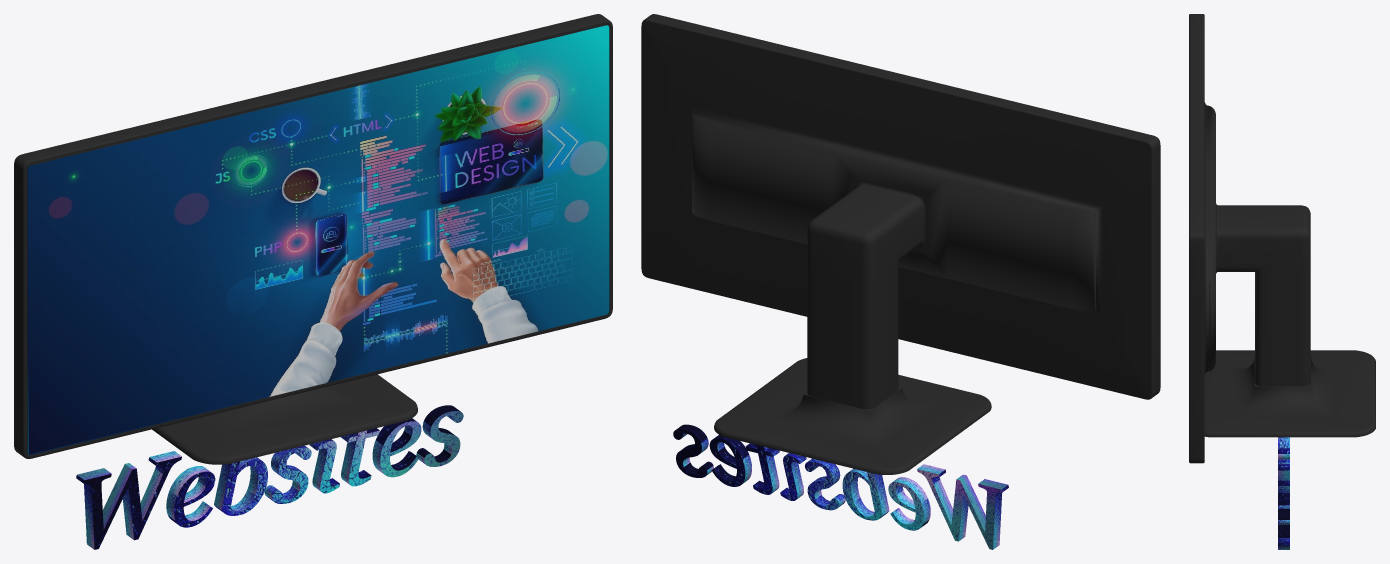
Rendered from Monitor.glb.
3 renders of one model, left to right at view 1: azimuth 30°, elevation 25°; view 2: azimuth 150°, elevation 25°; view 3: azimuth 270°, elevation 25°, orthographic. The views are drawn at different scales.
Parts seen in each view (by area): view 1: Screen, Box001, Text002; view 2: Box001, Text002; view 3: Box001, Text002.
Part boxes in pixels (bbox=[...]): Screen: bbox=[27, 25, 609, 454]; Box001: bbox=[14, 14, 612, 464]; Text002: bbox=[76, 405, 463, 549]; Box001: bbox=[641, 14, 1160, 474]; Text002: bbox=[673, 424, 1008, 549]; Box001: bbox=[1189, 14, 1375, 463]; Text002: bbox=[1278, 437, 1289, 549].
Bounding box in the file's own units: 5.62 × 4.19 × 1.99.
Materials: 3 (2 with a texture image).
